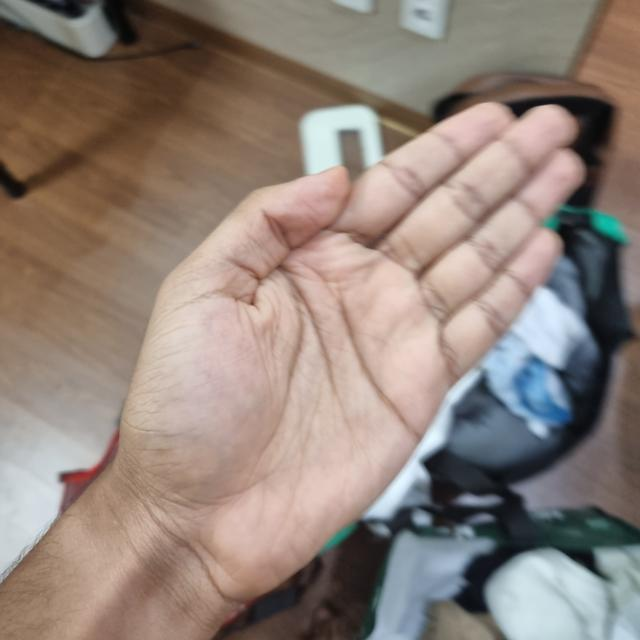Paper: (120, 167, 454, 587)
